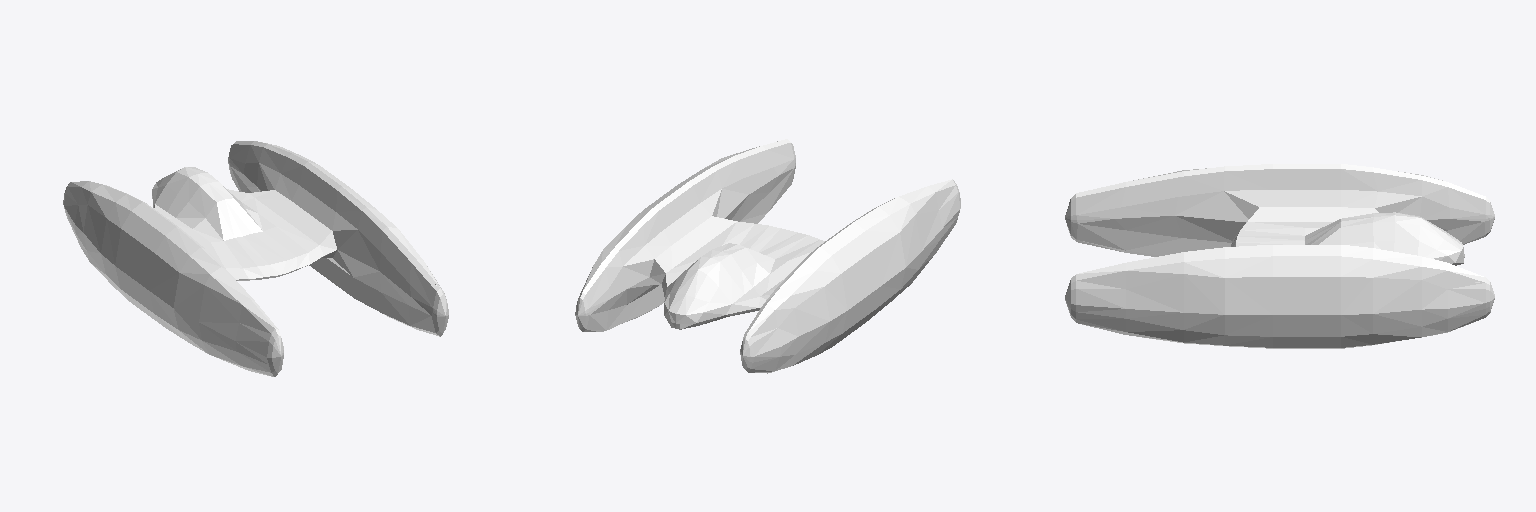
The picture shows the model from 3 angles: view 1: azimuth 30°, elevation 25°; view 2: azimuth 150°, elevation 25°; view 3: azimuth 270°, elevation 25°; orthographic projection.
Parts seen in each view (by area): view 1: Mesh1_B_shield; view 2: Mesh1_B_shield; view 3: Mesh1_B_shield.
Boxes of the visible parts, x1=… form: Mesh1_B_shield: x1=63, y1=141, x2=448, y2=376; Mesh1_B_shield: x1=575, y1=139, x2=960, y2=373; Mesh1_B_shield: x1=1065, y1=164, x2=1494, y2=348.
Bounding box in the file's own units: 36.96 × 16.59 × 62.54.